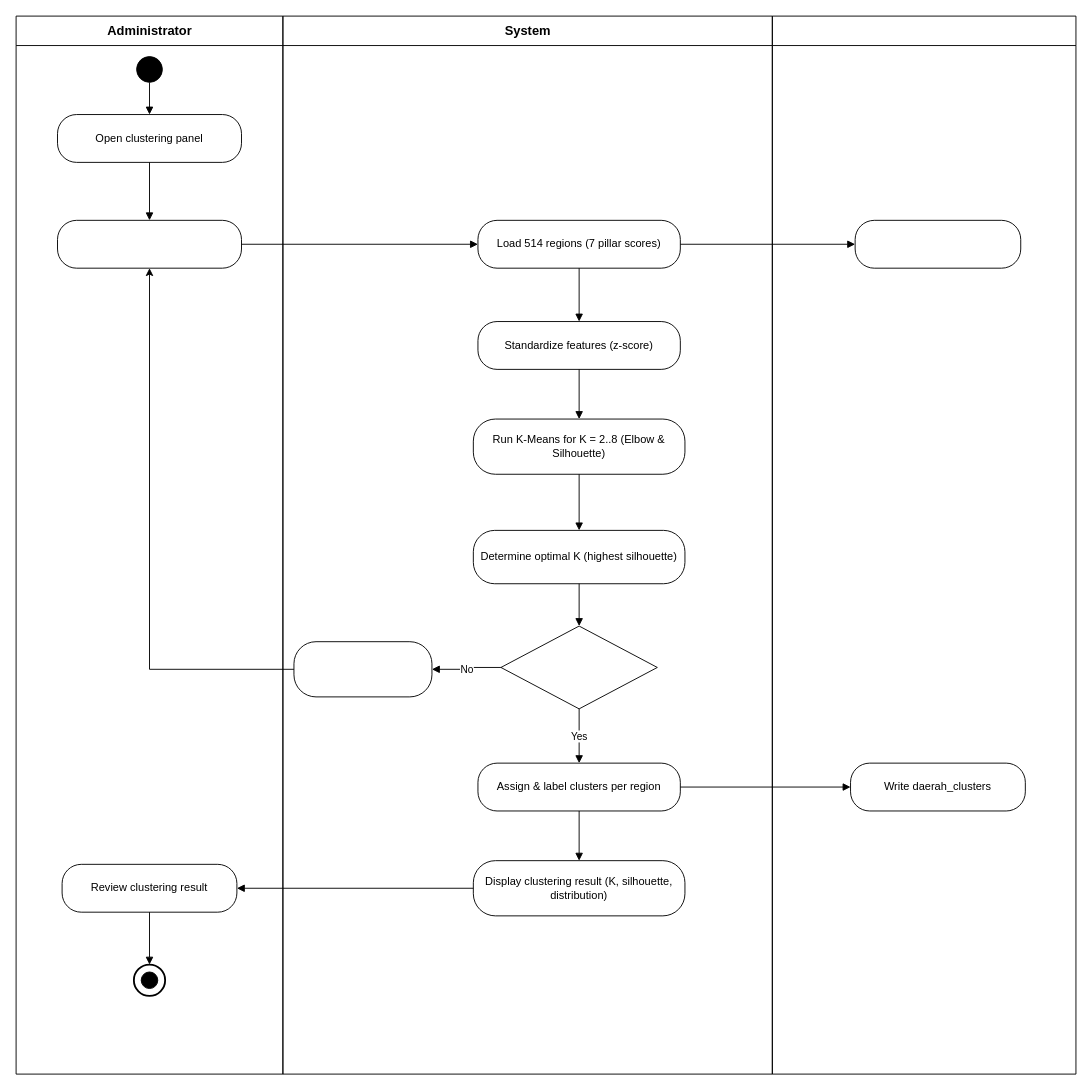
Some shapes in this 1092 by 1090 pixel diagram are drawn without their labels. The box of each missing label's shape, as (x1, y1, x2, y2) in pixels:
Clustering valid?: (500, 625, 657, 709)
Database: (771, 15, 1076, 1074)
Read reri_scores: (854, 219, 1021, 268)
Show error / log failure: (293, 641, 432, 697)
Trigger K-Means clustering: (57, 219, 242, 268)
